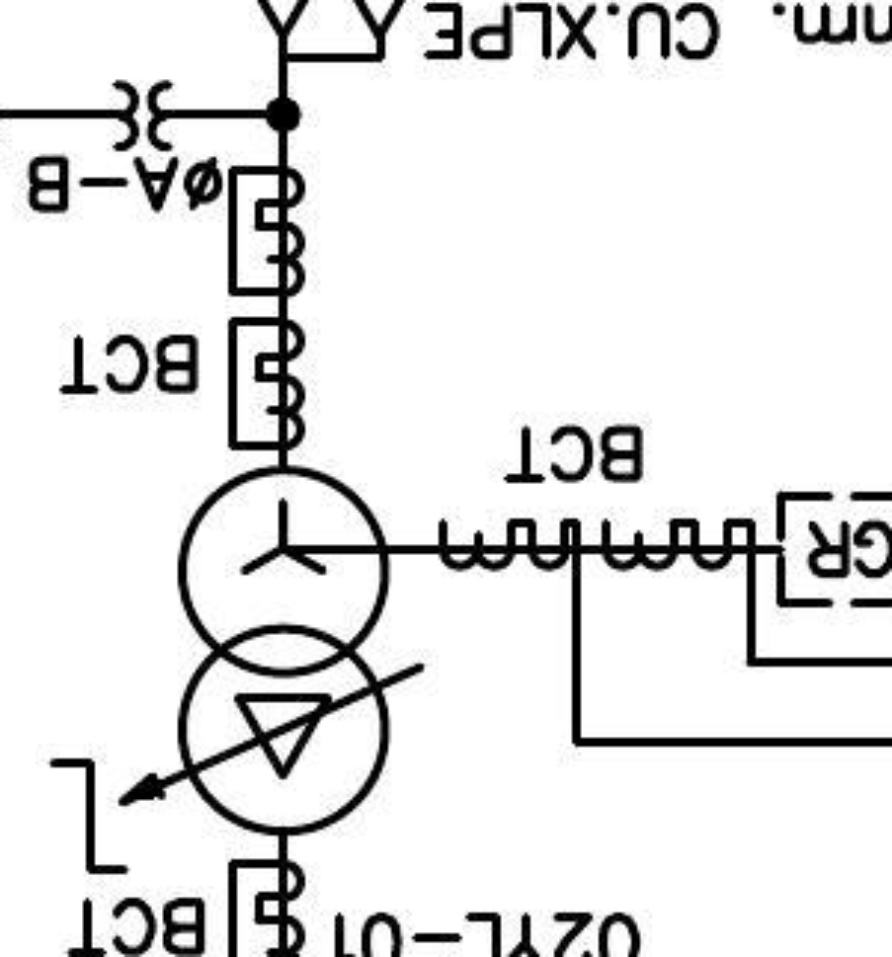11522_tx_dyn1: (175, 463, 392, 838)
